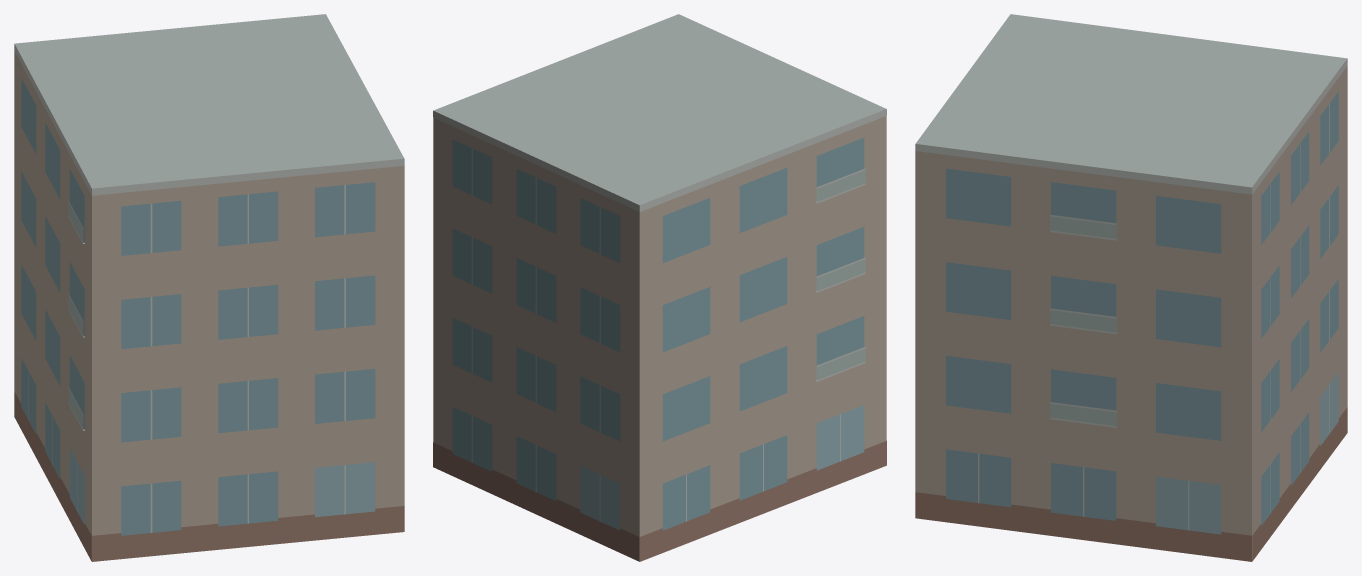
File: survey-upis-32868488.glb
The picture shows the model from 3 angles, left to right: view 1: azimuth 30°, elevation 25°; view 2: azimuth 150°, elevation 25°; view 3: azimuth 270°, elevation 25°; orthographic projection. The views are drawn at different scales.
Visible parts, largest first — view 1: survey-upis-32868488.tmp; view 2: survey-upis-32868488.tmp; view 3: survey-upis-32868488.tmp.
Boxes of the visible parts, bbox=[...] form: survey-upis-32868488.tmp: bbox=[14, 14, 404, 561]; survey-upis-32868488.tmp: bbox=[433, 14, 886, 561]; survey-upis-32868488.tmp: bbox=[915, 14, 1347, 561].
Size of the model in its own units: 12.73 by 12.8 by 13.4.
